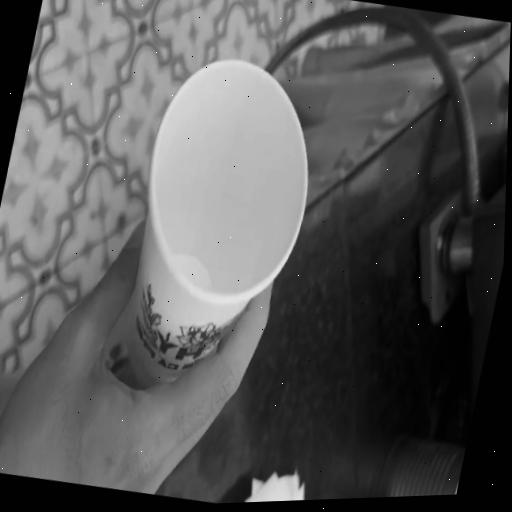Ly_giay: (123, 60, 306, 387)
